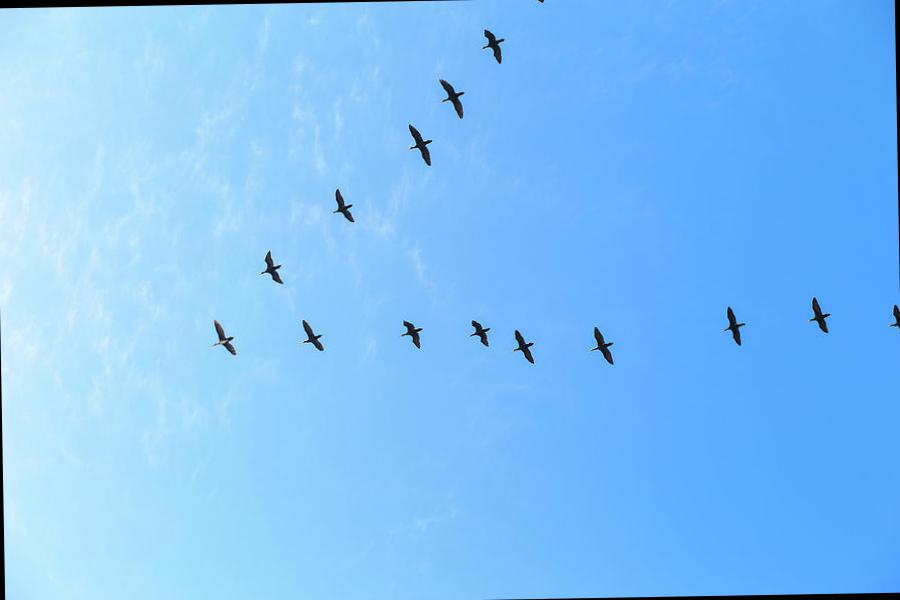bird: (576, 312, 627, 369), (714, 298, 755, 356), (201, 308, 244, 360), (290, 310, 334, 359), (799, 285, 835, 342), (507, 319, 545, 371), (325, 176, 360, 230), (433, 72, 474, 118), (402, 118, 435, 172), (390, 310, 428, 355), (254, 240, 291, 286), (475, 24, 513, 66), (462, 314, 493, 351)
